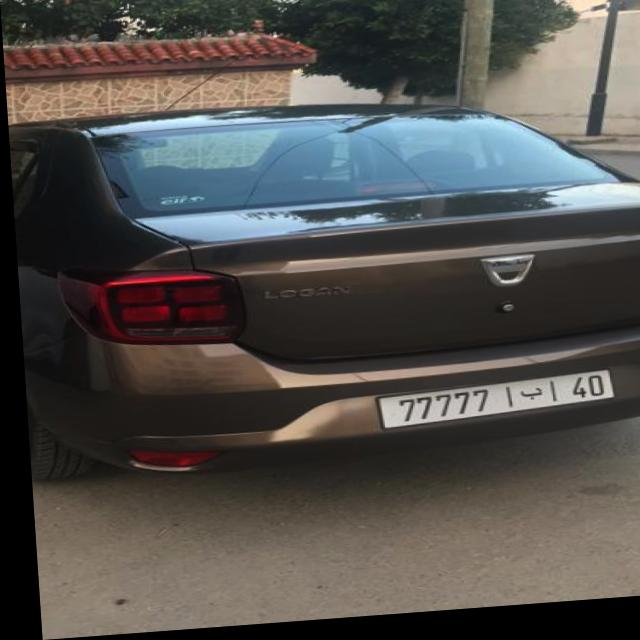License-Plate: (375, 380, 607, 434)
